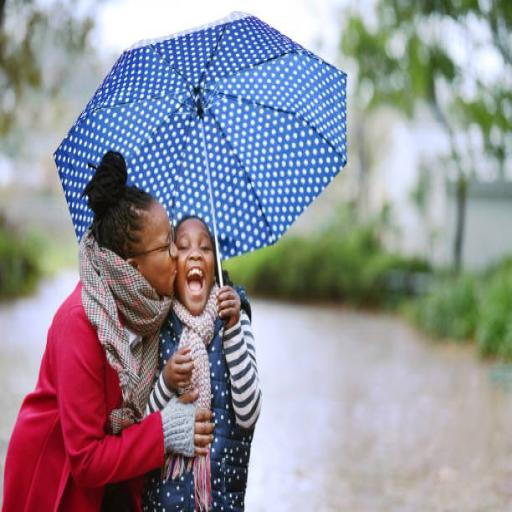guarda_chuva: (52, 9, 347, 339)
